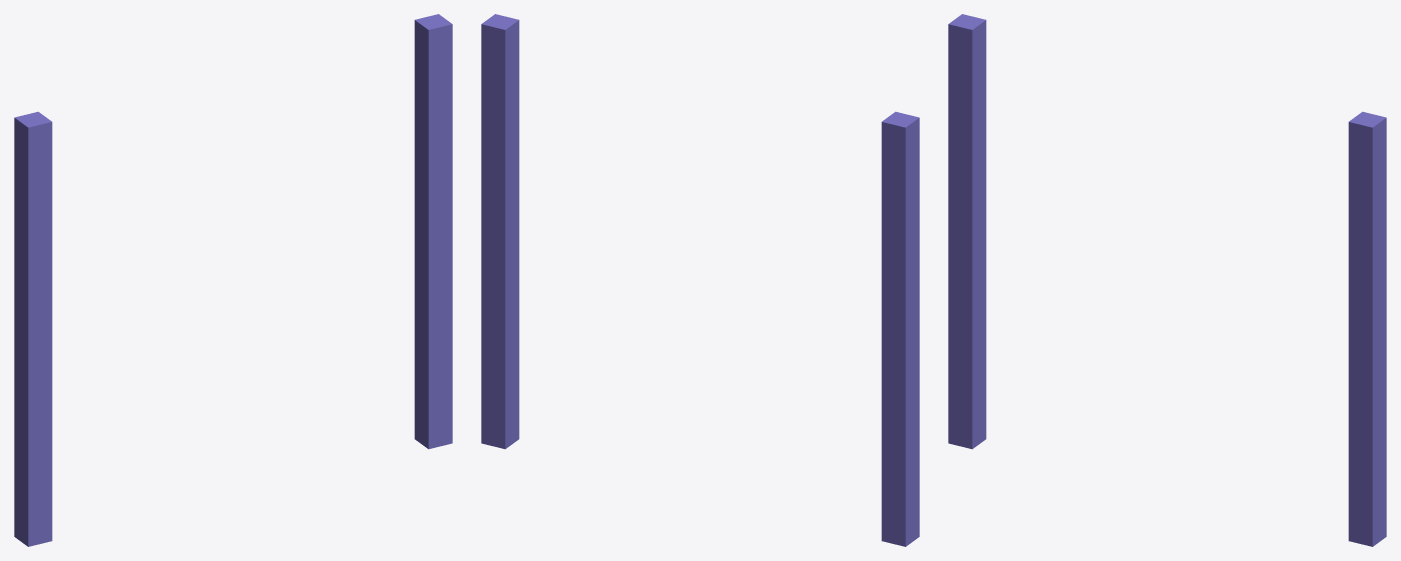
Rendered from Maths.fbx.
The picture shows the model from 3 angles, left to right: view 1: azimuth 30°, elevation 25°; view 2: azimuth 150°, elevation 25°; view 3: azimuth 330°, elevation 25°; orthographic projection.
Parts seen in each view (by area): view 1: Cube, Cube (1); view 2: Cube, Cube (1); view 3: Cube, Cube (1).
Boxes of the visible parts, box(x1,y1,x2,y2) form: Cube: box(14, 111, 52, 546); Cube (1): box(414, 14, 452, 449); Cube: box(881, 111, 919, 546); Cube (1): box(481, 14, 519, 449); Cube: box(948, 14, 986, 449); Cube (1): box(1348, 111, 1386, 546).
Bounding box in the file's own units: 30.47 × 28.77 × 1.73.
